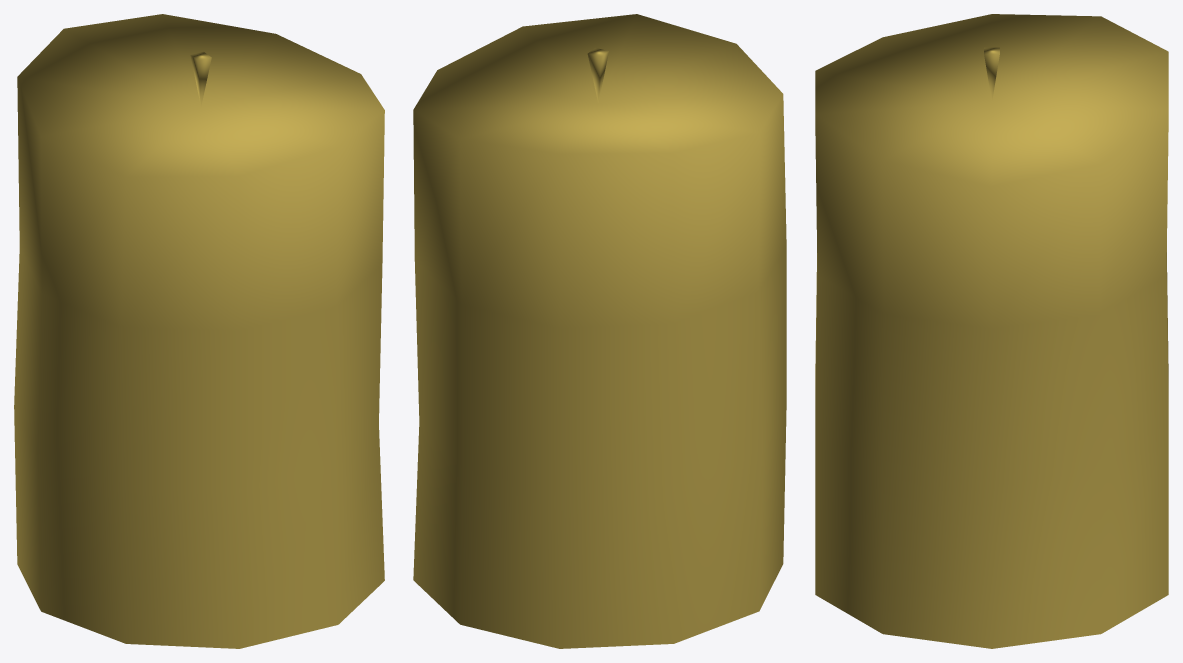
File: candle1_LP.fbx
3 renders of one model, left to right at view 1: azimuth 30°, elevation 25°; view 2: azimuth 150°, elevation 25°; view 3: azimuth 270°, elevation 25°, orthographic.
Parts seen in each view (by area): view 1: candle1_LP; view 2: candle1_LP; view 3: candle1_LP.
Boxes of the visible parts, x1,y1,x2,y2 form: candle1_LP: [14, 14, 384, 648]; candle1_LP: [413, 14, 786, 648]; candle1_LP: [815, 14, 1168, 648].
Size of the model in its own units: 8.74 by 13.34 by 8.23.
